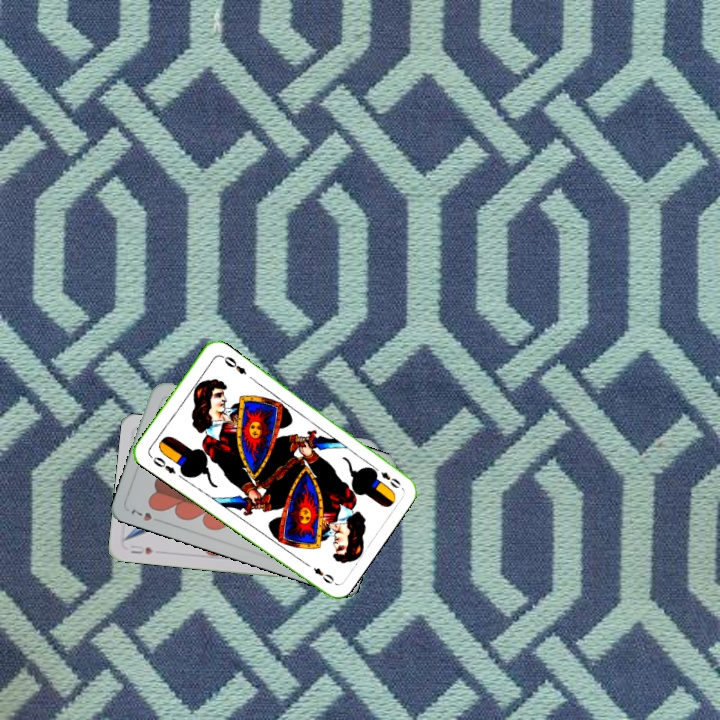EO: (368, 462, 403, 491), (146, 451, 179, 477)
H7: (127, 505, 154, 524)
HU: (127, 541, 155, 557)
